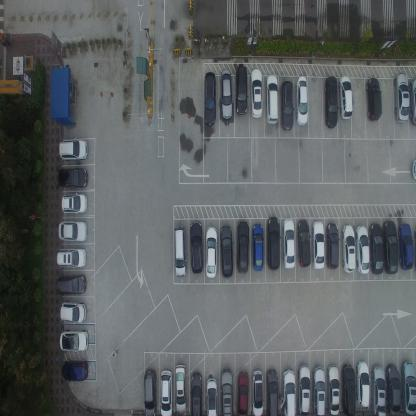car: (218, 225, 234, 280), (382, 220, 398, 275), (400, 360, 416, 415), (370, 364, 387, 415), (266, 214, 281, 270), (385, 363, 401, 415), (189, 221, 204, 274), (369, 222, 384, 275), (203, 70, 217, 126), (394, 71, 409, 123), (341, 363, 356, 415), (324, 75, 338, 130), (341, 223, 356, 274), (355, 224, 370, 275), (279, 80, 294, 131), (398, 223, 414, 270), (59, 328, 89, 353), (58, 219, 88, 244), (58, 137, 88, 162), (173, 225, 187, 278), (366, 76, 382, 122), (236, 218, 249, 274), (282, 216, 296, 268), (250, 67, 264, 119), (326, 364, 340, 416), (356, 360, 371, 408), (311, 367, 326, 415), (204, 225, 217, 279), (235, 63, 248, 117), (60, 299, 87, 325), (325, 221, 339, 271), (61, 358, 89, 383), (56, 272, 86, 295), (219, 68, 232, 121), (296, 218, 310, 267), (57, 165, 88, 187), (295, 75, 308, 127), (265, 74, 278, 126), (282, 367, 296, 415), (143, 367, 157, 415), (251, 221, 264, 272), (56, 246, 86, 268), (159, 368, 173, 415), (338, 74, 352, 120), (61, 192, 89, 215), (298, 362, 310, 415), (174, 361, 186, 414), (266, 367, 279, 415), (312, 220, 324, 270), (251, 370, 264, 416), (221, 367, 233, 415), (237, 370, 249, 416), (190, 372, 202, 415), (206, 377, 218, 415), (410, 77, 416, 126), (410, 157, 416, 183)
